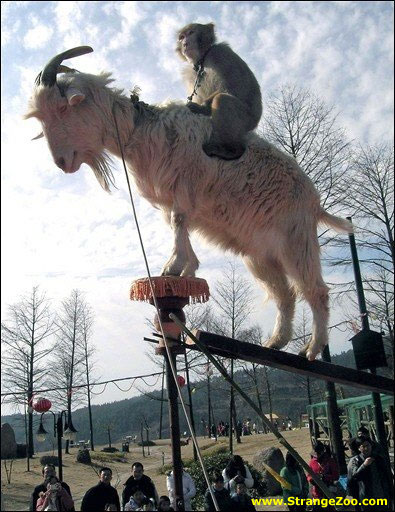goat: (23, 42, 359, 361)
